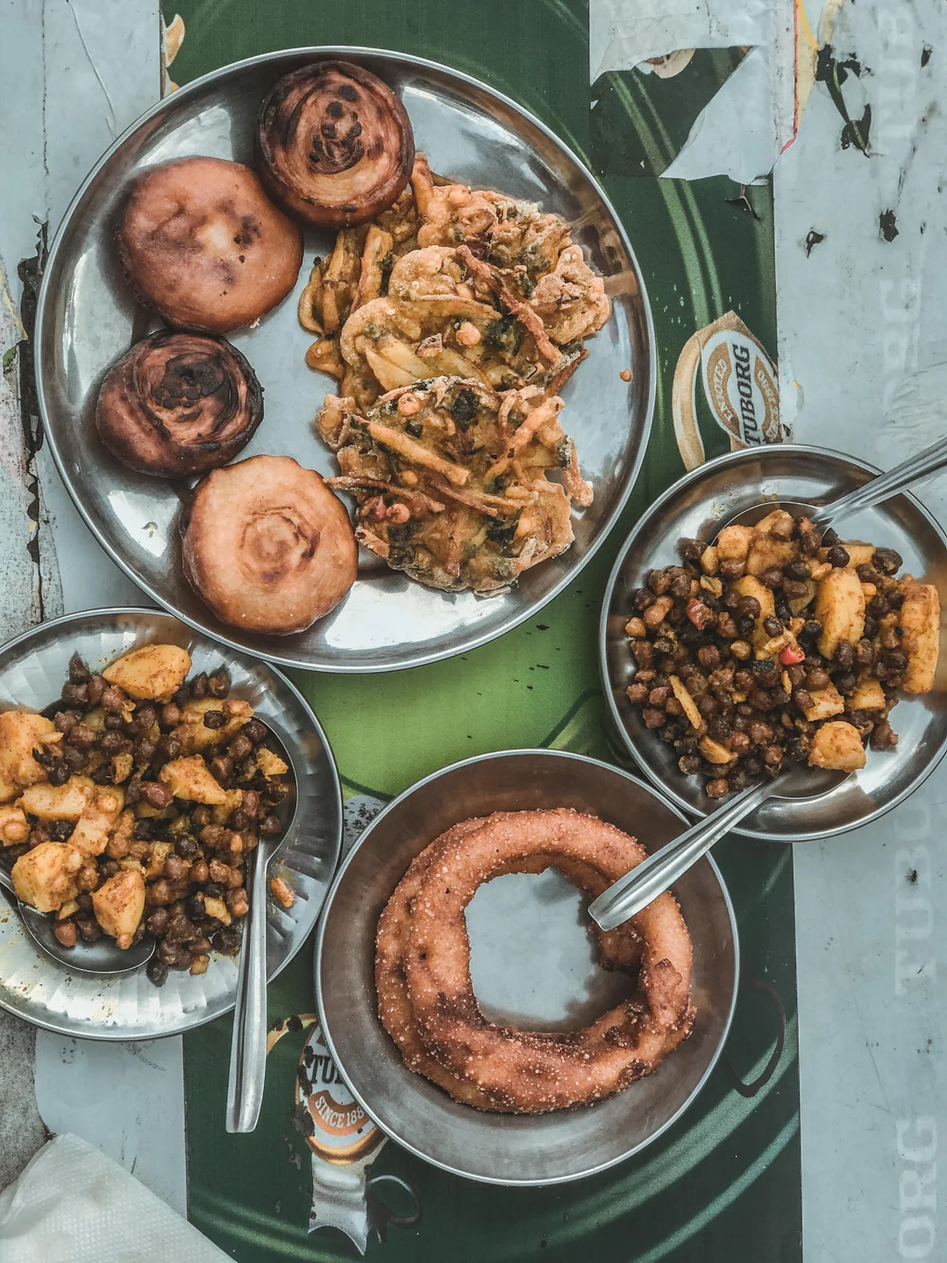sel_roti: (392, 822, 701, 1096)
